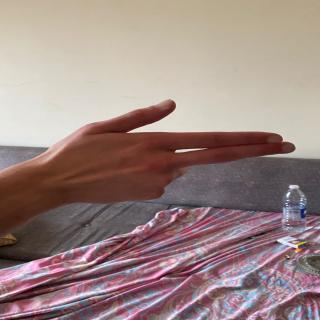GHAYN: (41, 98, 299, 212)
